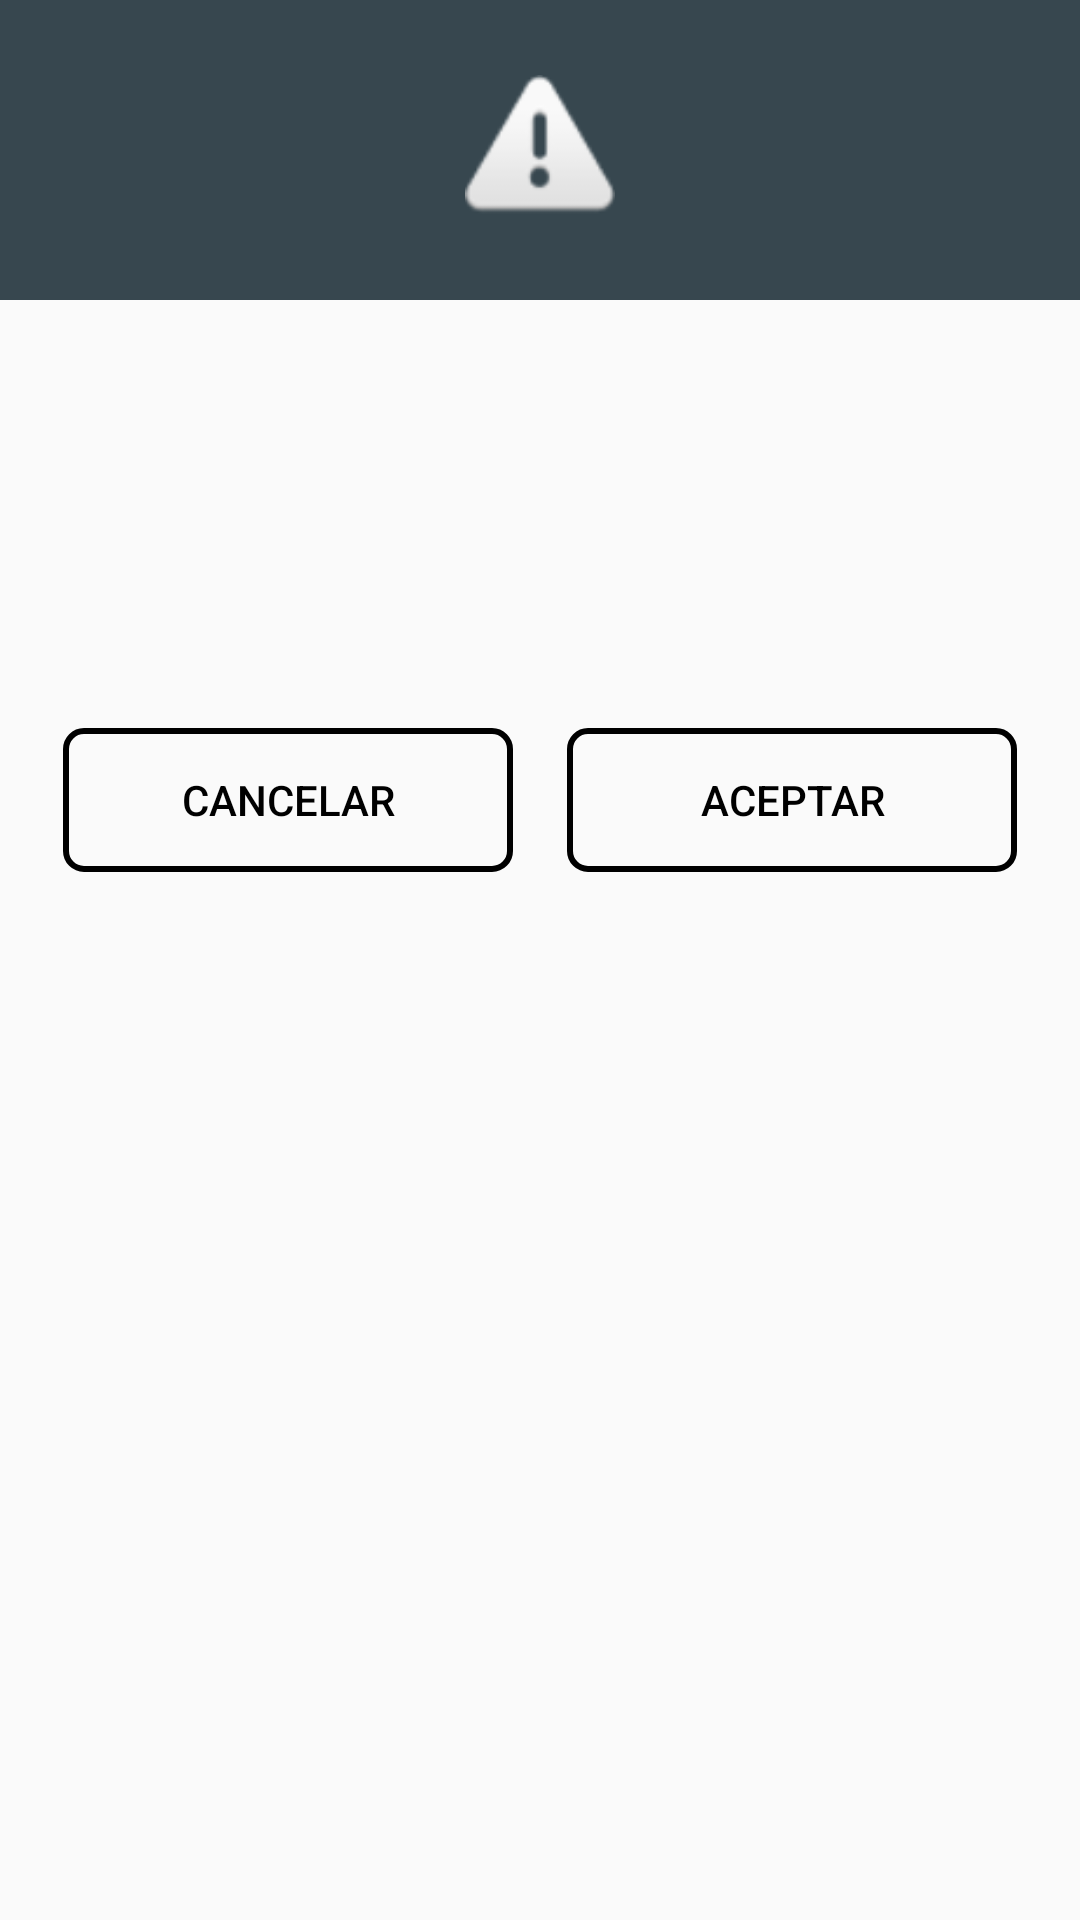

Icons on this 1080px x 1920px Android screen, each with the point to tap as (x=x, y=y):
alert: (x=540, y=143)
